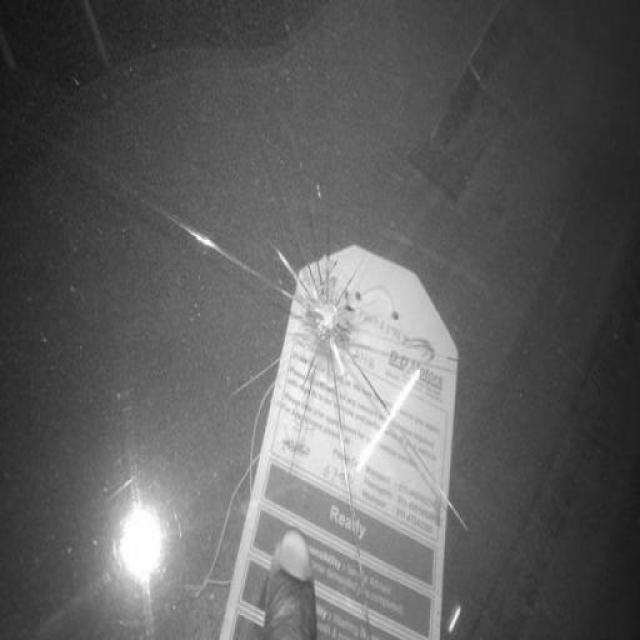crack: (248, 198, 443, 484)
